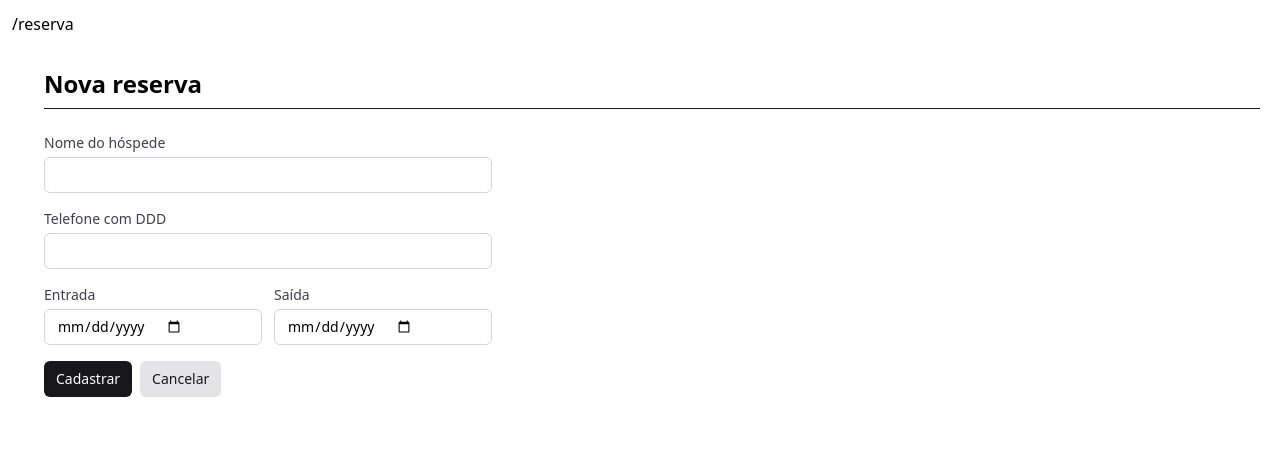
TelaNovaReserva › datas invertidas não disparam POST
In the field labelled "Nome do hóspede": (268, 175) [44,157,492,193], type "Marina Duarte"
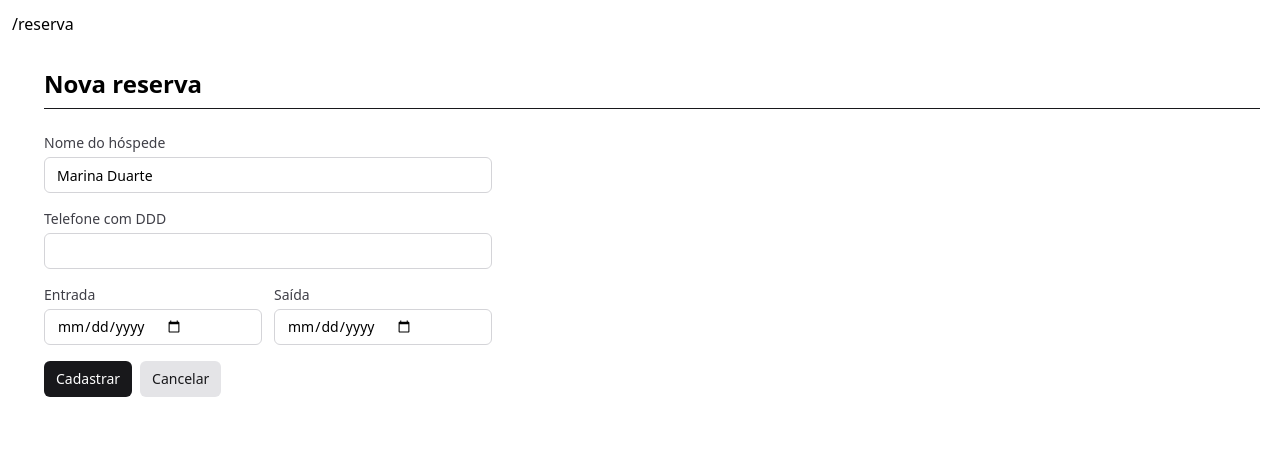
In the field labelled "Telefone com DDD": (268, 251) [44,233,492,269], type "(11) 98765-4321"
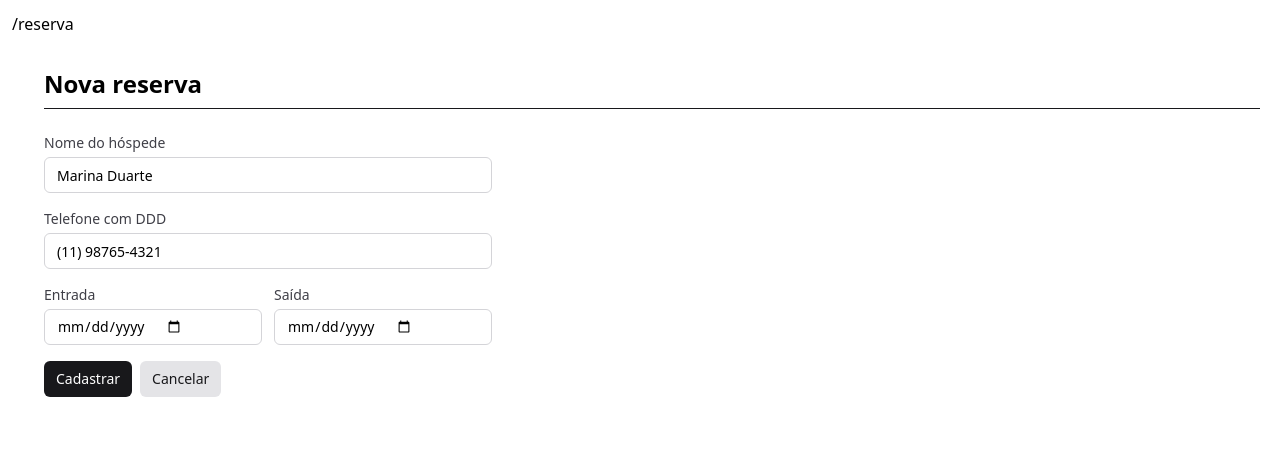
In the date field labelled "Entrada": (153, 327) [44,309,262,345], type "2026-09-02"
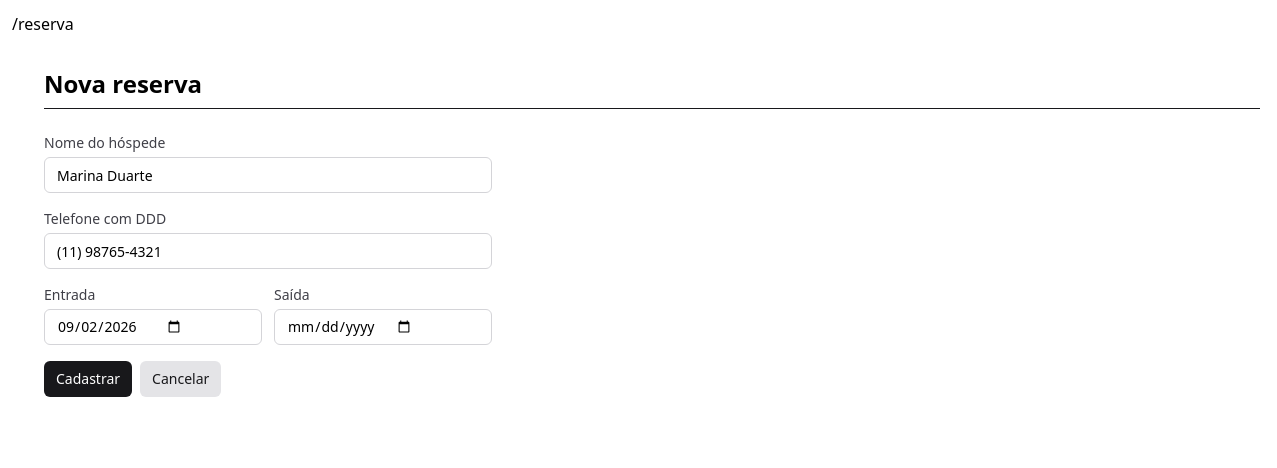
In the date field labelled "Saída": (383, 327) [274,309,492,345], type "2026-08-31"
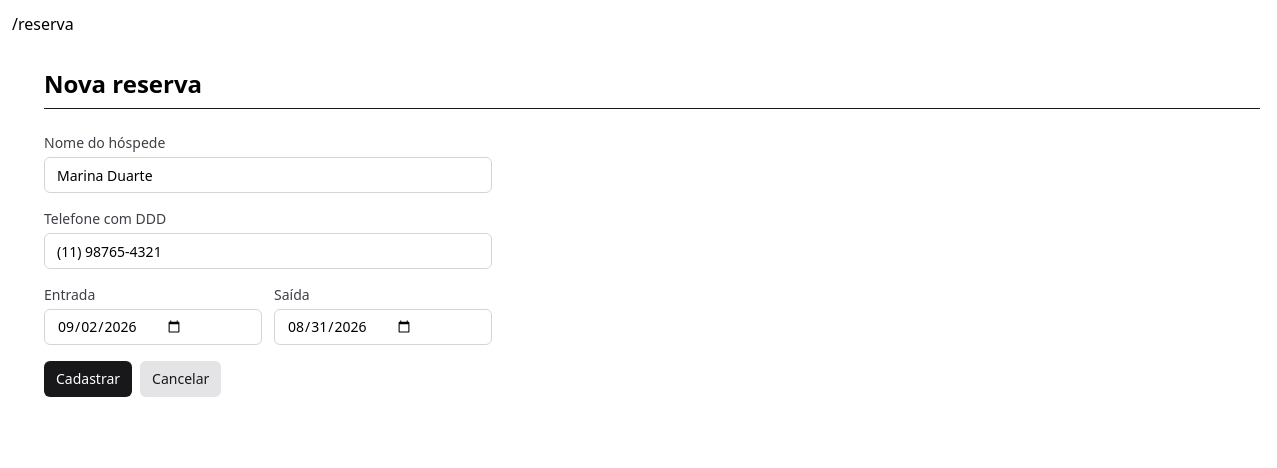
Click the button "Cadastrar": click(88, 379) [44,361,132,397]
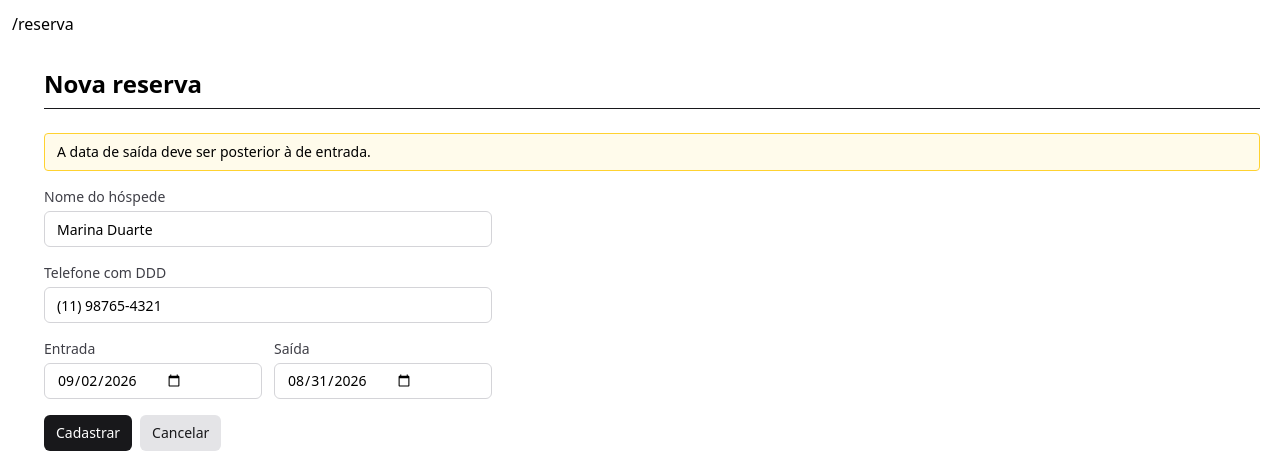
Expected: the text "A data de saída deve ser posterior à de entrada." is shown, [44,133,1260,171]
